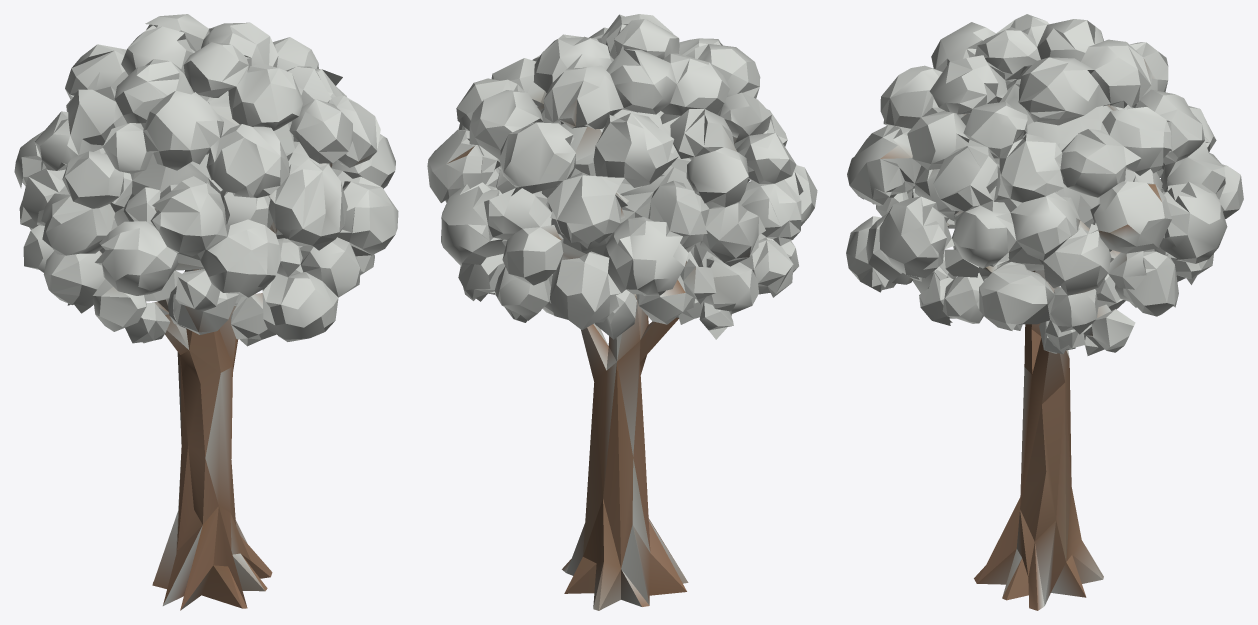
Rendered from maple.glb.
3 renders of one model, left to right at view 1: azimuth 30°, elevation 25°; view 2: azimuth 150°, elevation 25°; view 3: azimuth 270°, elevation 25°, orthographic.
Parts seen in each view (by area): view 1: geometry_0; view 2: geometry_0; view 3: geometry_0.
Part boxes in pixels (<box>): geometry_0: <box>14,14,398,610</box>; geometry_0: <box>427,14,817,610</box>; geometry_0: <box>846,14,1243,610</box>.
Bounding box in the file's own units: 3.45 × 5.37 × 3.53.
